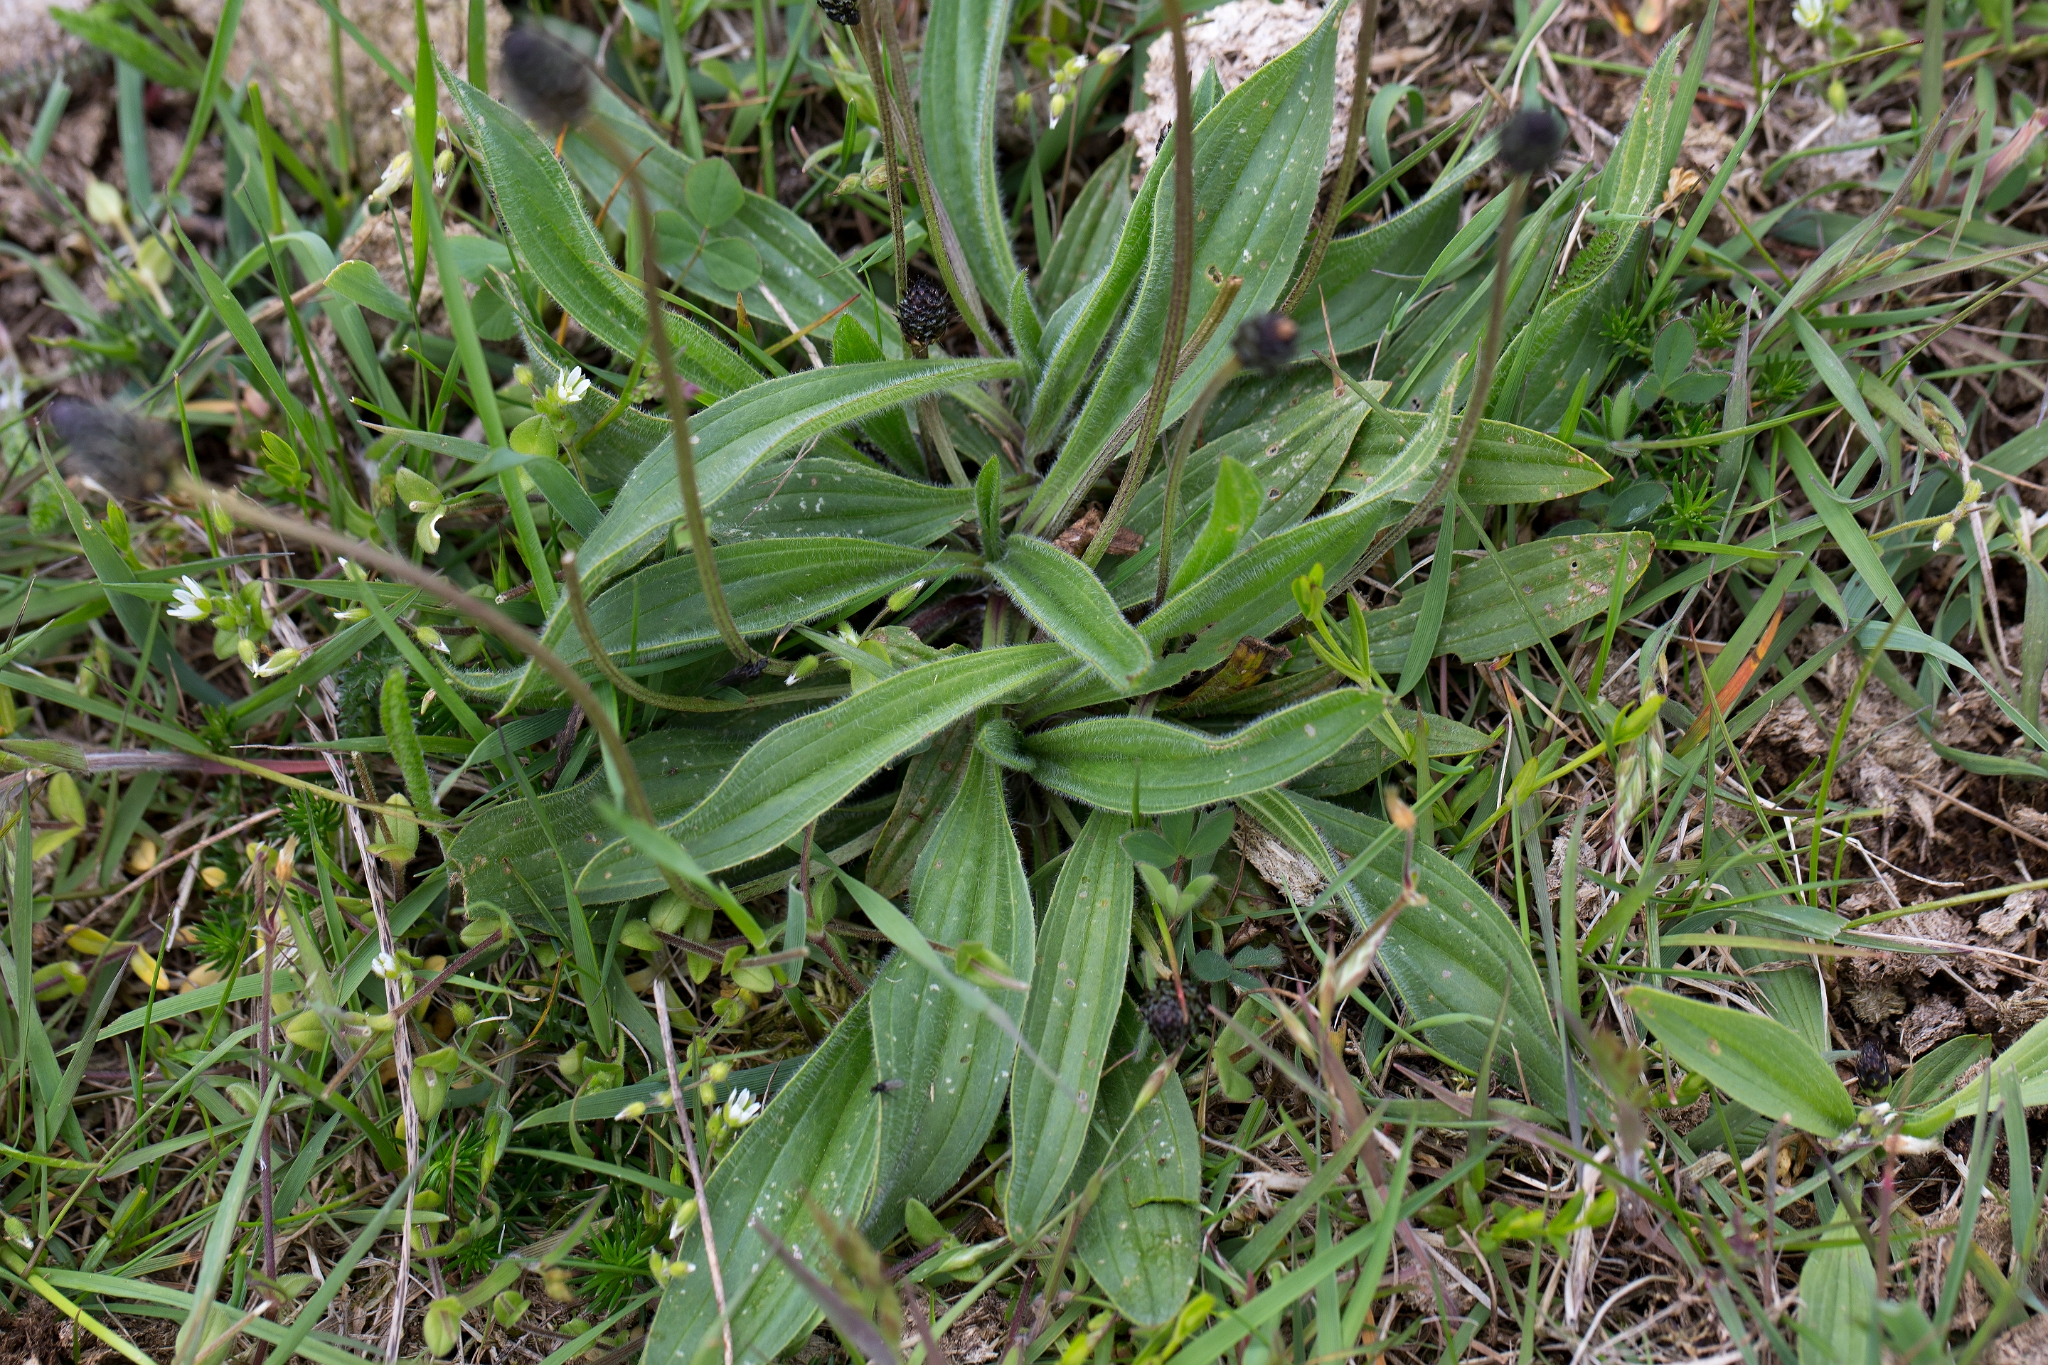buckhorn plantain: (126, 11, 1654, 1143)
